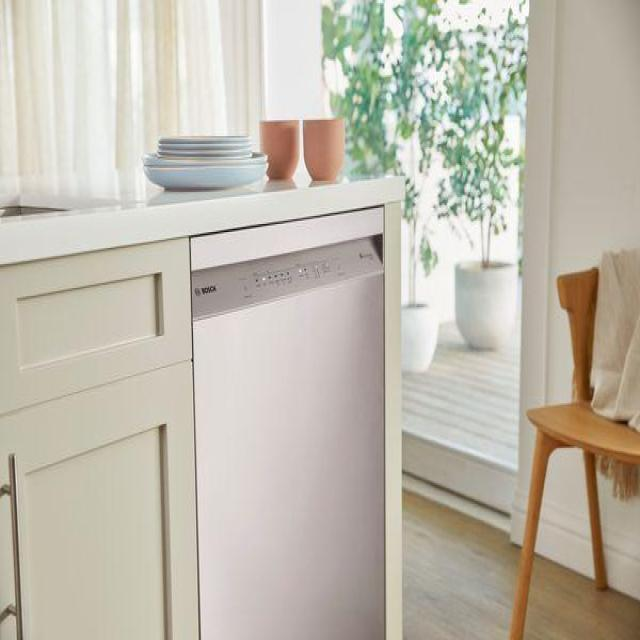dishwasher: (176, 204, 408, 638)
